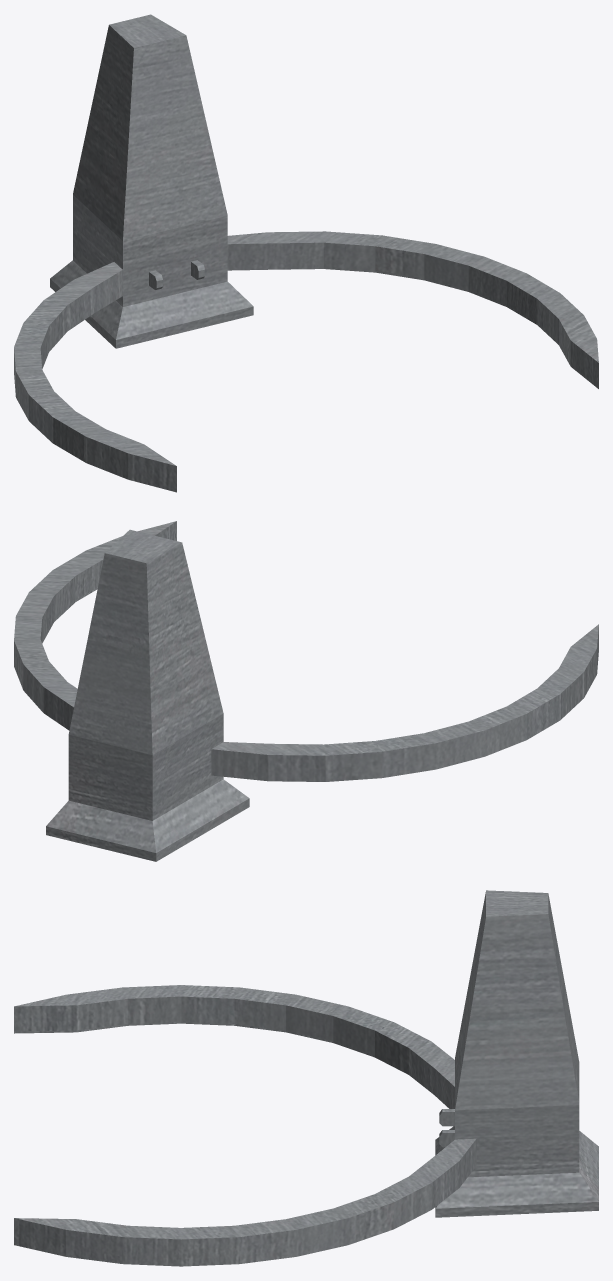
File: Charger.fbx
The picture shows the model from 3 angles, top to bottom: view 1: azimuth 30°, elevation 25°; view 2: azimuth 150°, elevation 25°; view 3: azimuth 270°, elevation 25°; orthographic projection. The views are drawn at different scales.
Visible parts, largest first — view 1: Cube; view 2: Cube; view 3: Cube.
Boxes of the visible parts, x1,y1,x2,y2 form: Cube: (14,14,598,492); Cube: (14,521,598,861); Cube: (14,890,598,1266).
Bounding box in the file's own units: 242 × 124 × 235.
